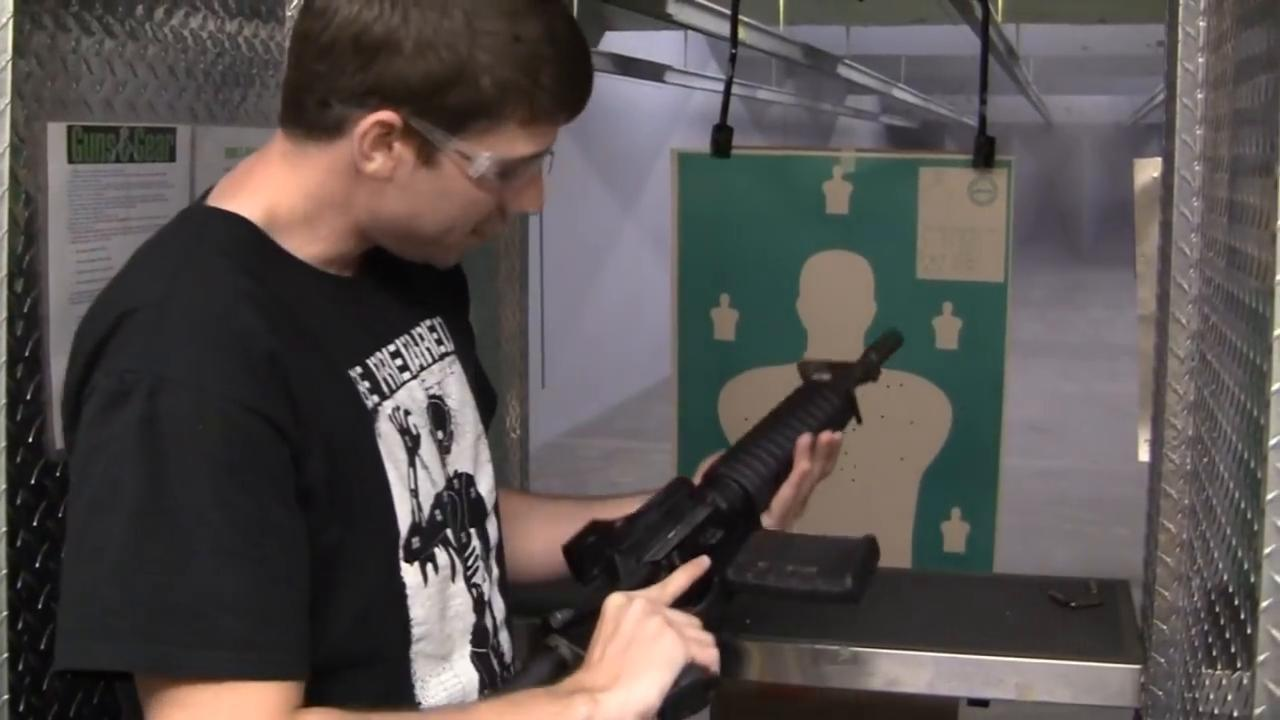M4 Rifle: (480, 326, 907, 717)
